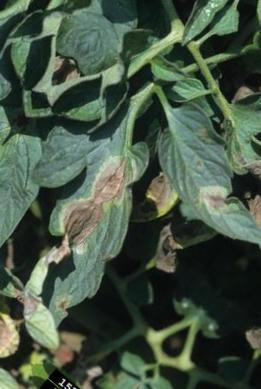Tomato leaf late blight: (0, 54, 226, 321), (120, 93, 261, 263)
